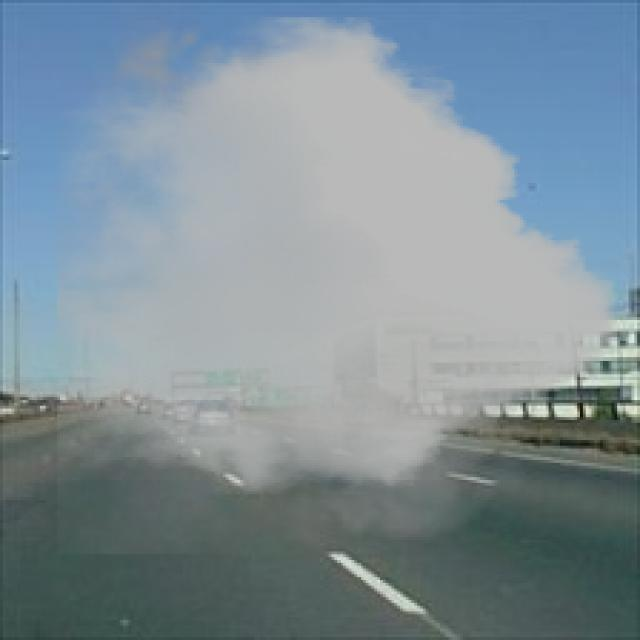Smoke: (57, 8, 617, 554)
